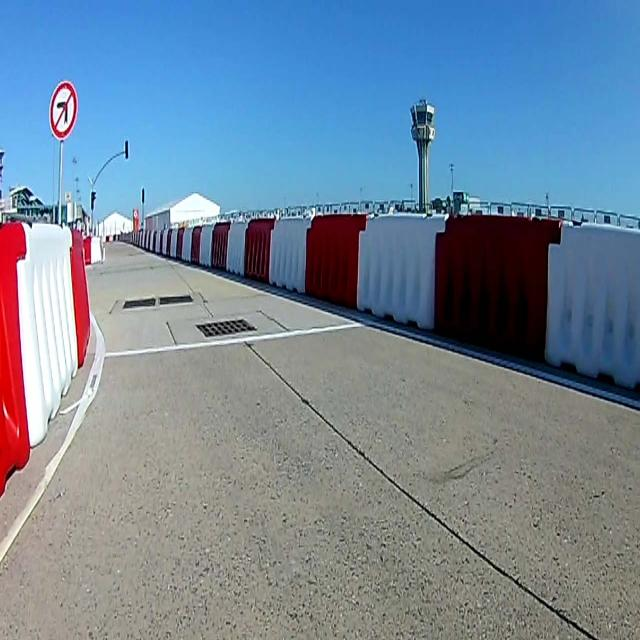soladonulmez: (51, 80, 77, 138)
